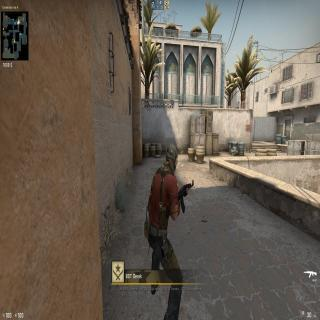T-Head: (165, 142, 179, 172)
